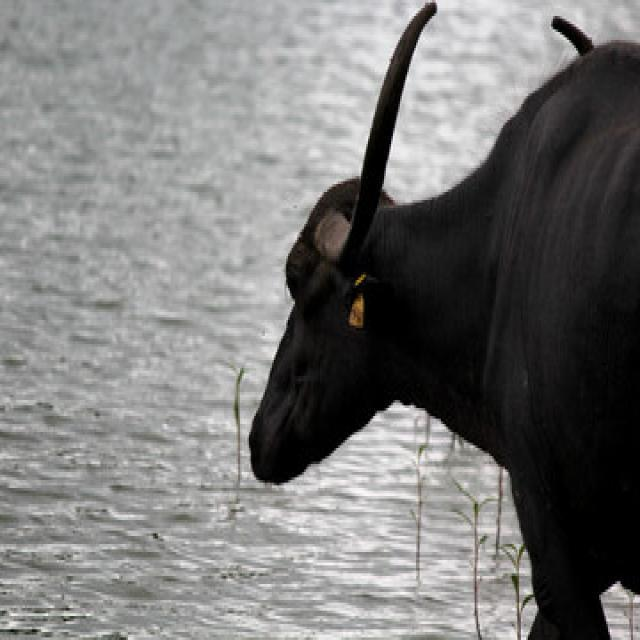Buffalo: (243, 0, 638, 637)
